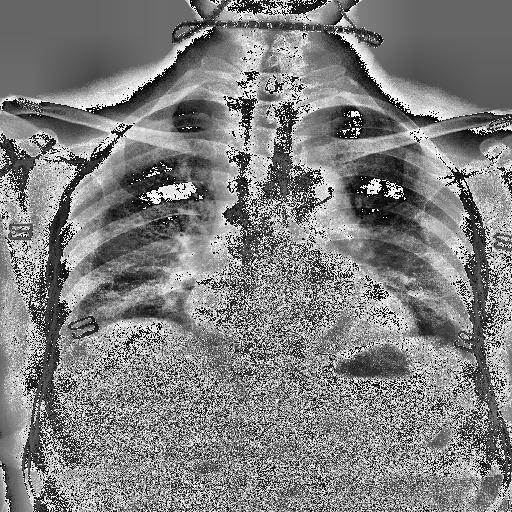0- Aortic enlargement: (282, 163, 359, 240), (272, 162, 348, 224), (272, 162, 346, 216)
2- Calcification: (312, 184, 336, 206)
3- Cardiomegaly: (178, 274, 426, 350), (180, 286, 422, 349), (181, 287, 425, 347)
